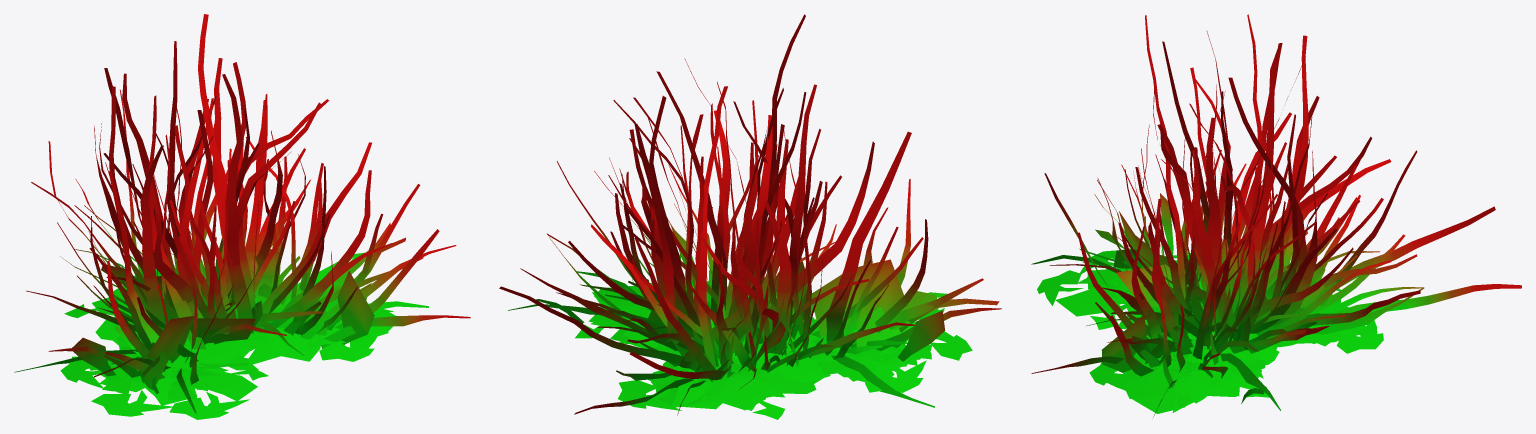
The model's file is Wild Grass_LOD1_Var6_vczndjqja.fbx.
3 views of the same model, side by side, from view 1: azimuth 30°, elevation 25°; view 2: azimuth 150°, elevation 25°; view 3: azimuth 270°, elevation 25° (orthographic). The views are drawn at different scales.
Parts seen in each view (by area): view 1: _5iab_Var6_LOD1; view 2: _5iab_Var6_LOD1; view 3: _5iab_Var6_LOD1.
Boxes of the visible parts, left/top/right/bottom form: _5iab_Var6_LOD1: left=14, top=14, right=470, bottom=419; _5iab_Var6_LOD1: left=499, top=14, right=1001, bottom=419; _5iab_Var6_LOD1: left=1031, top=14, right=1521, bottom=417.
Size of the model in its own units: 118 by 85.87 by 123.
